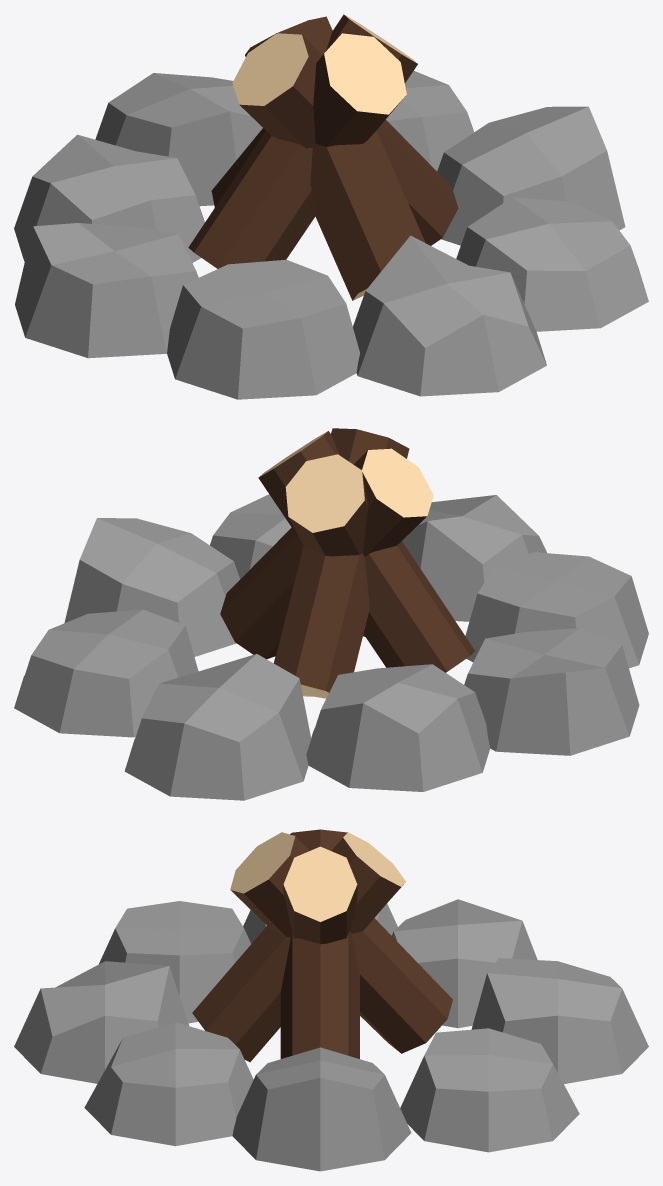
The model's file is camp01__mesh_LOD.fbx.
The picture shows the model from 3 angles, top to bottom: view 1: azimuth 30°, elevation 25°; view 2: azimuth 150°, elevation 25°; view 3: azimuth 270°, elevation 25°; orthographic projection. The views are drawn at different scales.
Parts seen in each view (by area): view 1: camp01__mesh_LOD0; view 2: camp01__mesh_LOD0; view 3: camp01__mesh_LOD0.
Part boxes in pixels (x1=…): camp01__mesh_LOD0: x1=14, y1=14, x2=648, y2=399; camp01__mesh_LOD0: x1=14, y1=428, x2=648, y2=800; camp01__mesh_LOD0: x1=14, y1=829, x2=648, y2=1171.
Size of what is drawn, in the model's own units: 1140 by 447 by 1207.
12 materials, 12 textured.
